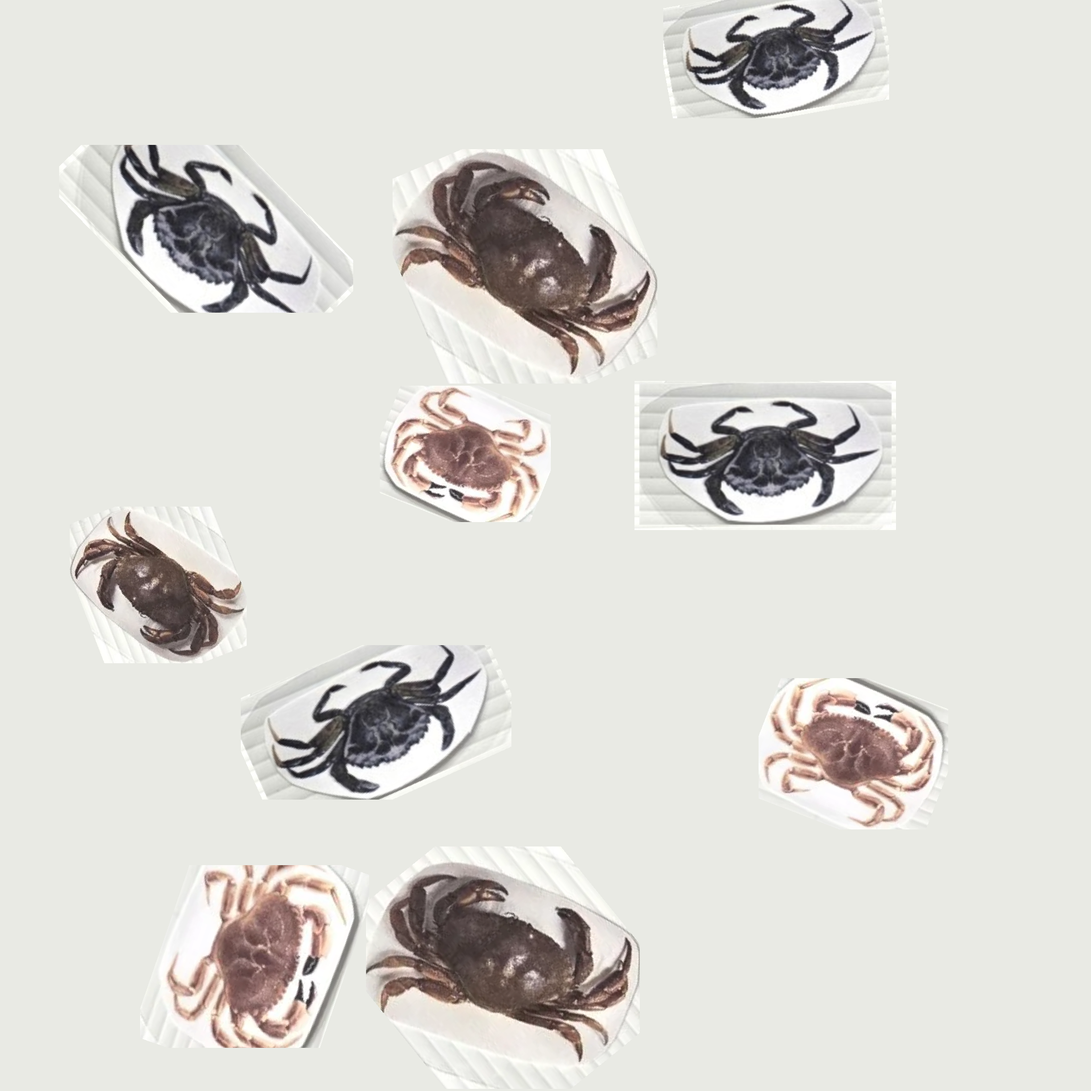evil: (60, 143, 352, 315), (638, 381, 900, 524), (250, 641, 502, 789), (667, 7, 877, 107)
normal: (398, 148, 665, 372), (364, 865, 650, 1063), (152, 858, 360, 1058), (753, 676, 958, 827), (64, 519, 260, 672), (384, 388, 570, 521)
